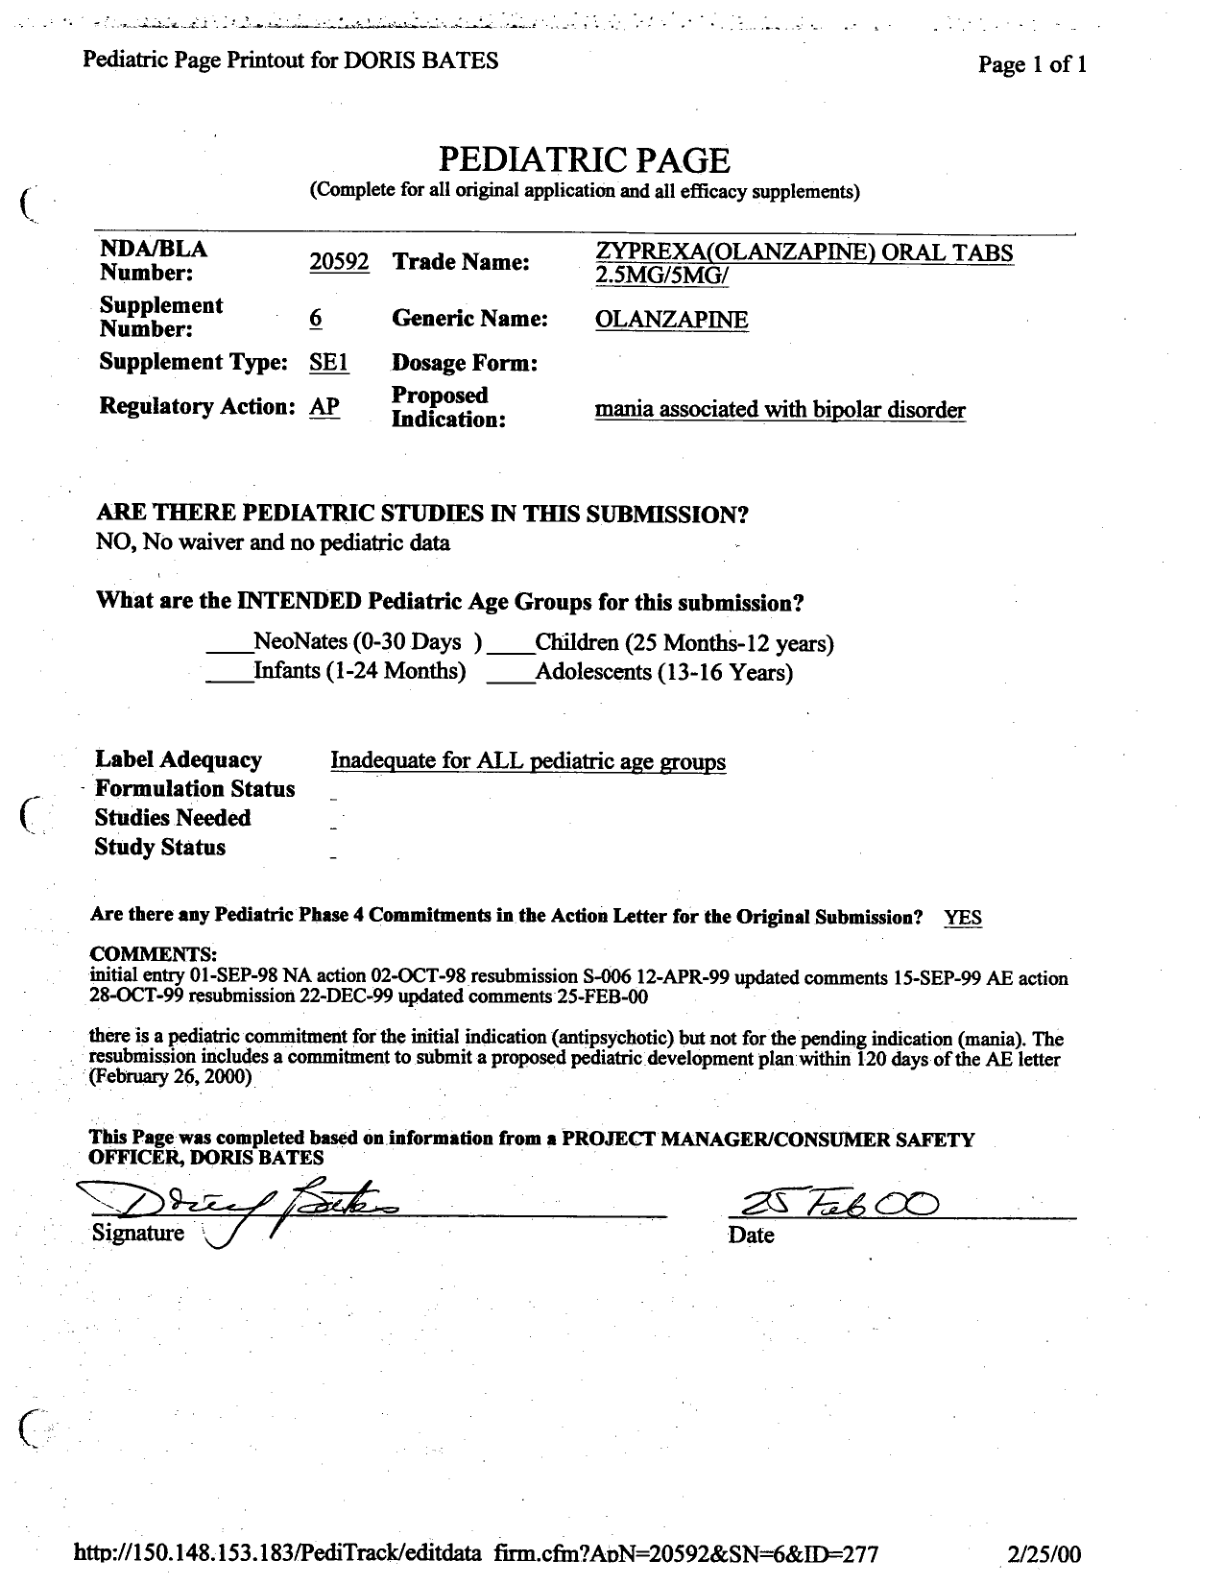nolines: (98, 238, 1017, 435), (93, 744, 732, 865)
